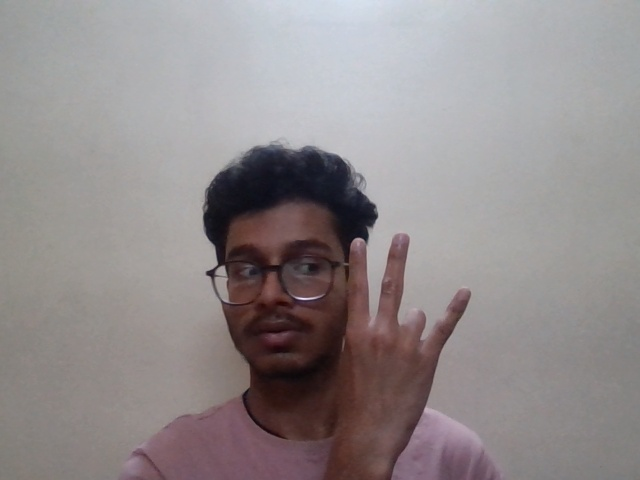why: (350, 227, 468, 424)
